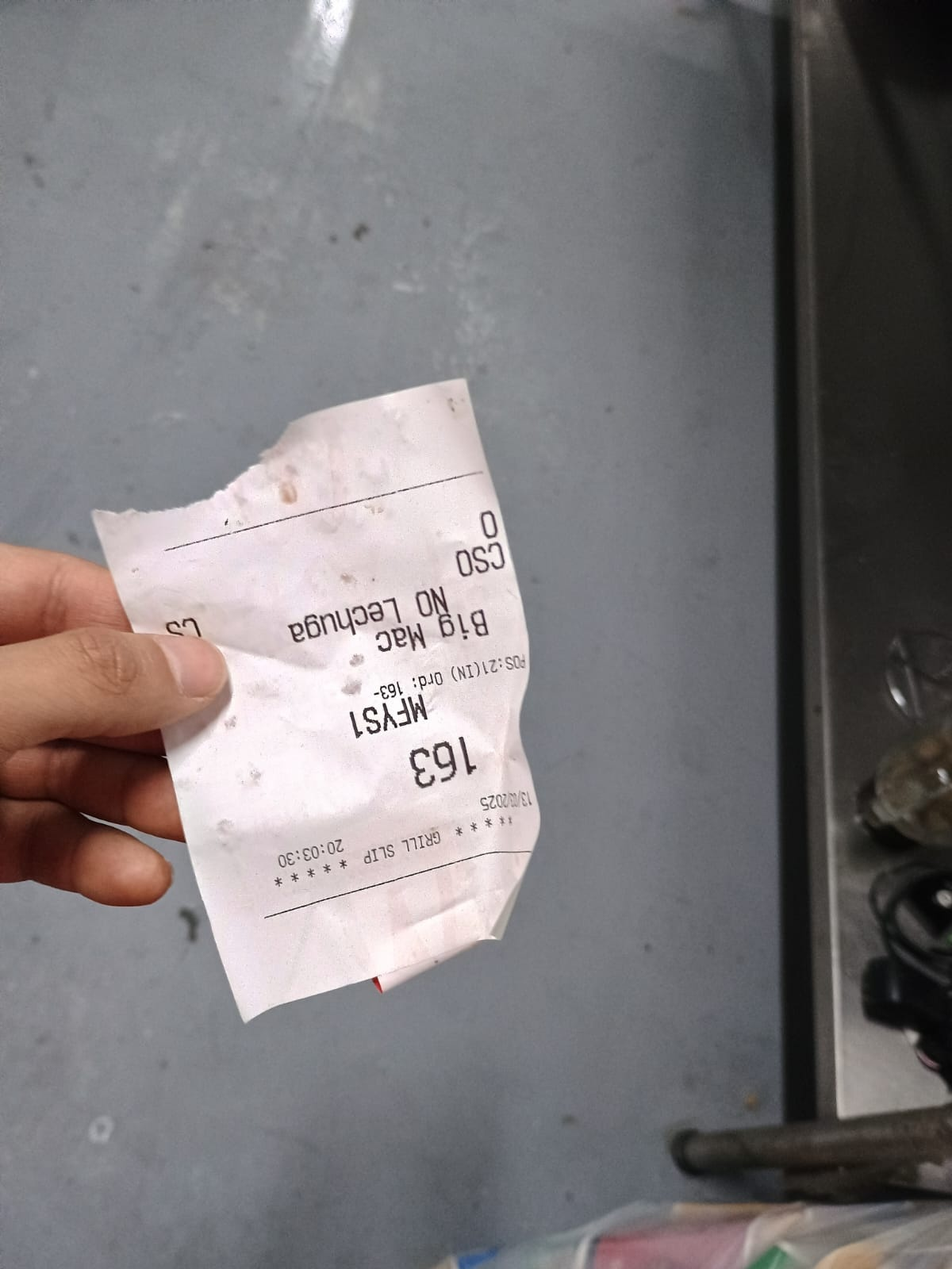Papel: (85, 375, 543, 1023)
